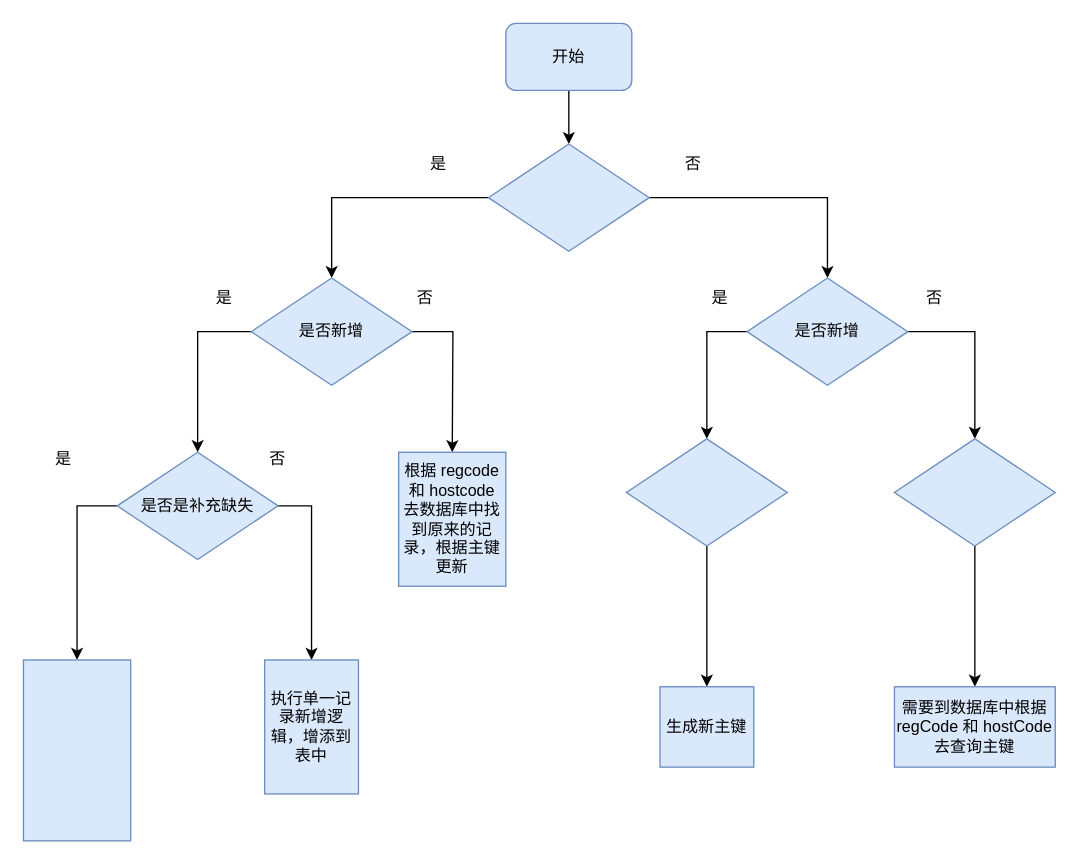
Some shapes in this 1079 by 864 pixel diagram are drawn without their labels. The centre of each missing label's shape, as x and y in pixels:
判断是否单条记录: pixel 568 197
否，合并更新: pixel 974 492
是，合并新增: pixel 706 492
根据 regcode 和 hostcode 去数据库中找到另一半记录，同时根据原来 pdcel 的记录，根据主键更新: pixel 76 750
